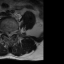CCS_normal: (8, 30, 10, 39)
LFS_normal: (12, 28, 14, 37)
LLS_normal: (10, 30, 12, 37)
RFS_normal: (3, 28, 6, 36)
RLS_normal: (6, 29, 8, 37)
